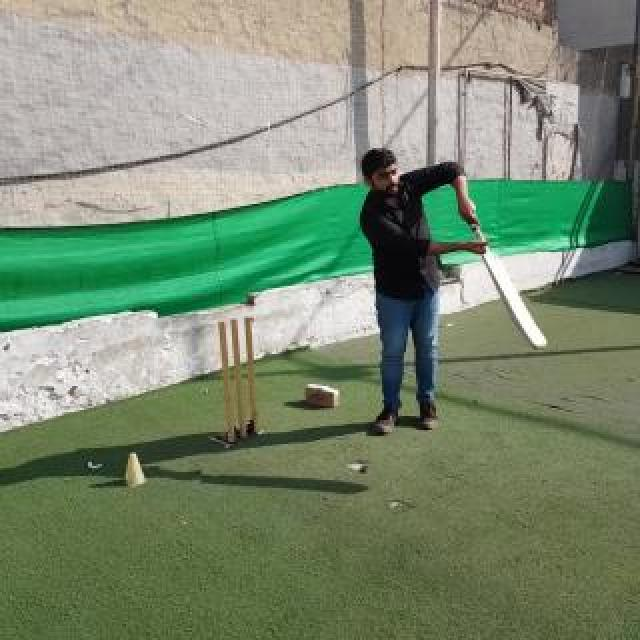bat: (467, 216, 547, 350)
